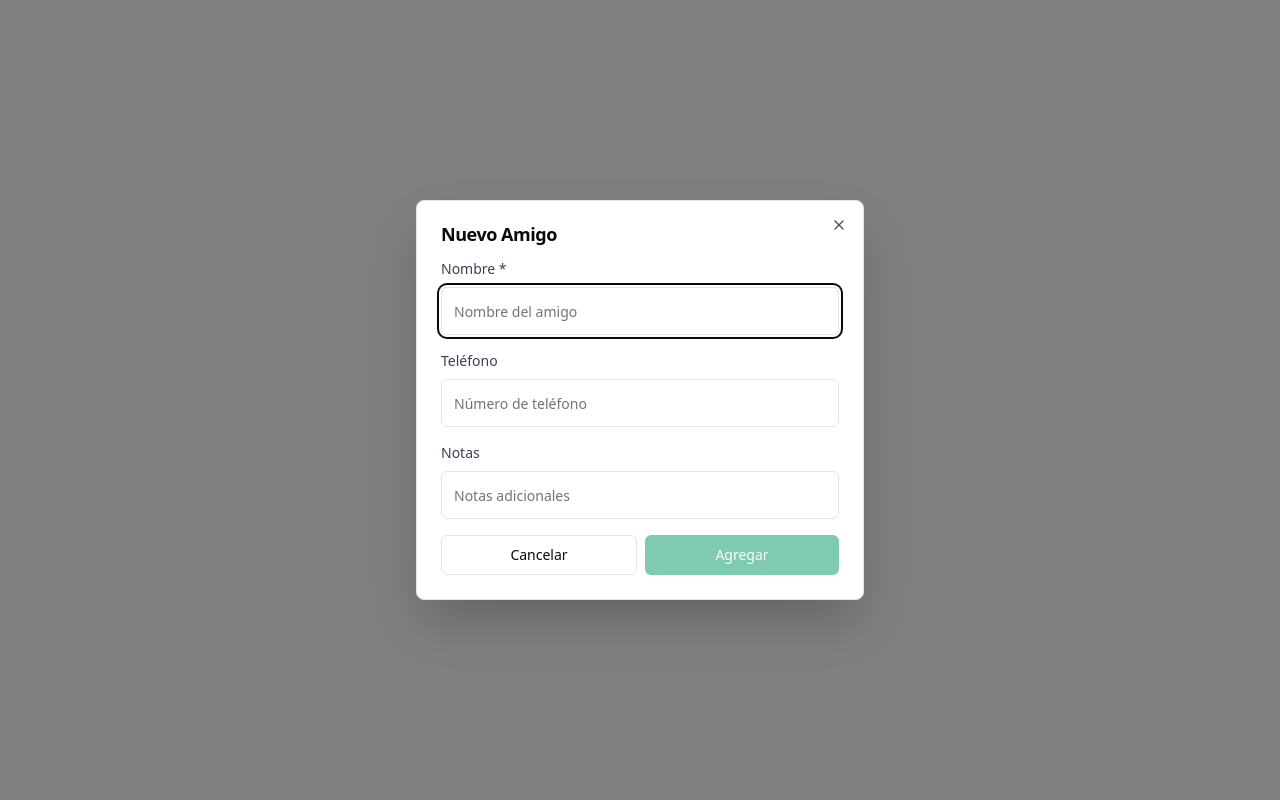
AmigosFormDialog › enables submit button when nombre has content
Type "Maria Lopez" into the field with placeholder "Nombre del amigo" at (640, 311), box x1=441 y1=287 x2=839 y2=335
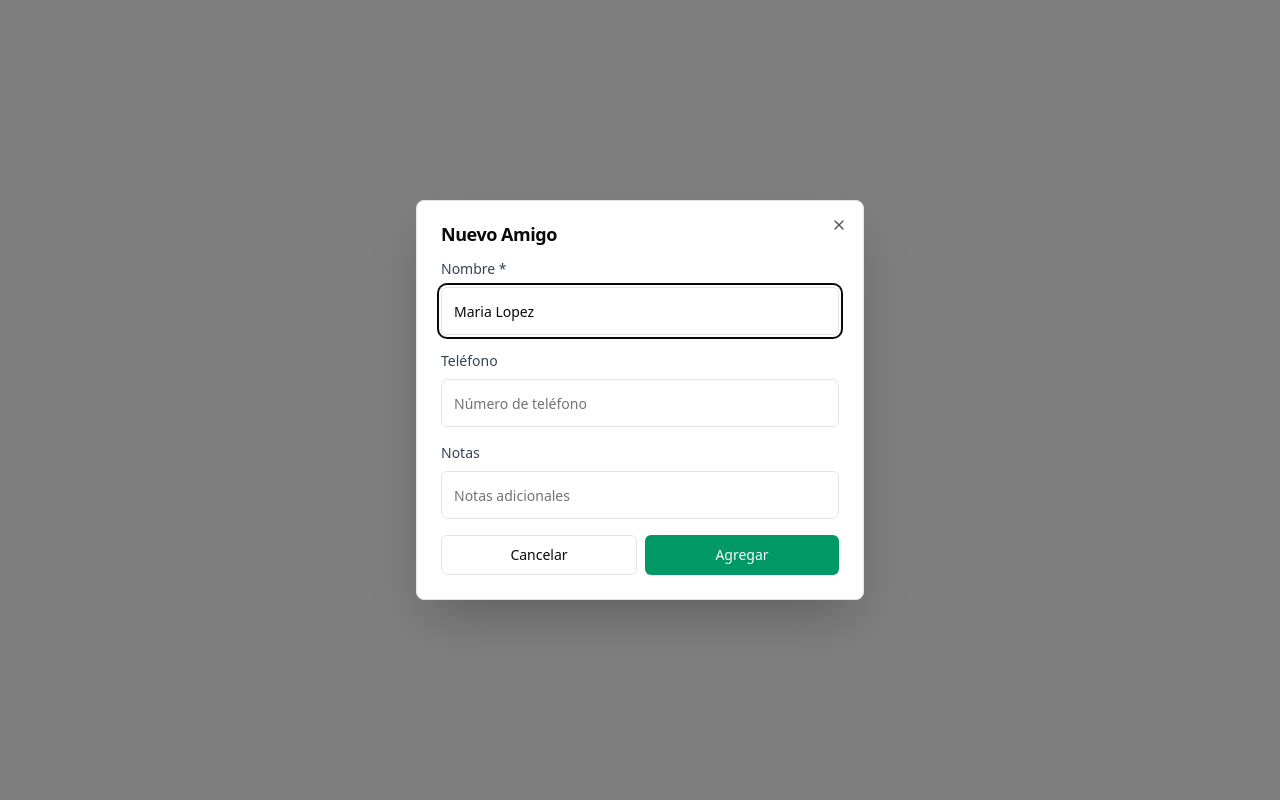
Expected: the button "Agregar" is enabled, x1=645 y1=535 x2=839 y2=575
